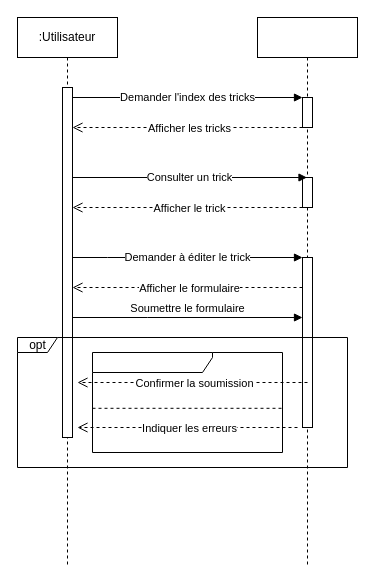
The diagram is 375 pixels wide and 585 high, and some of its shapes have lost their labels. Each missing label, with the box of its shape:
:Application: (256, 16, 358, 568)
alt {donnée validée}: (92, 352, 282, 452)
